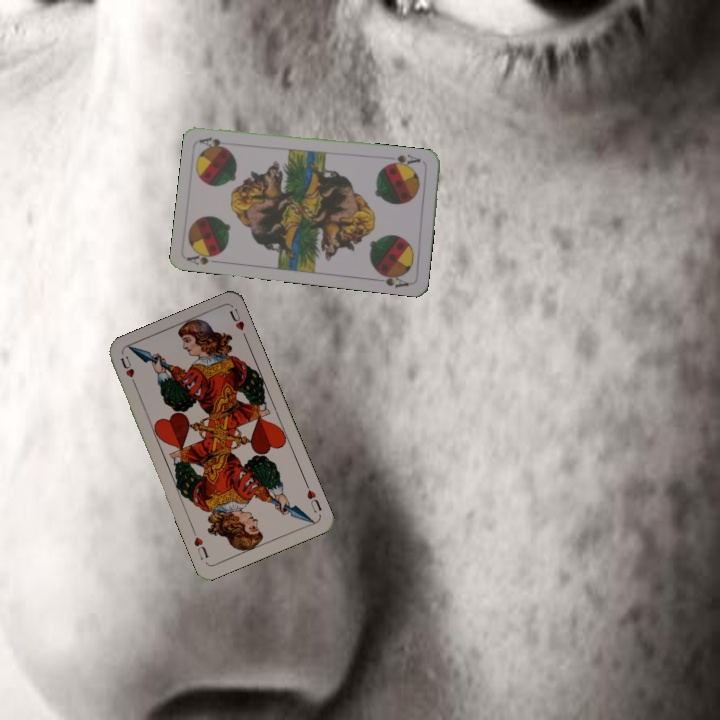HU: (116, 352, 139, 390), (301, 479, 324, 516)
SA: (385, 150, 423, 170), (184, 247, 222, 267)
